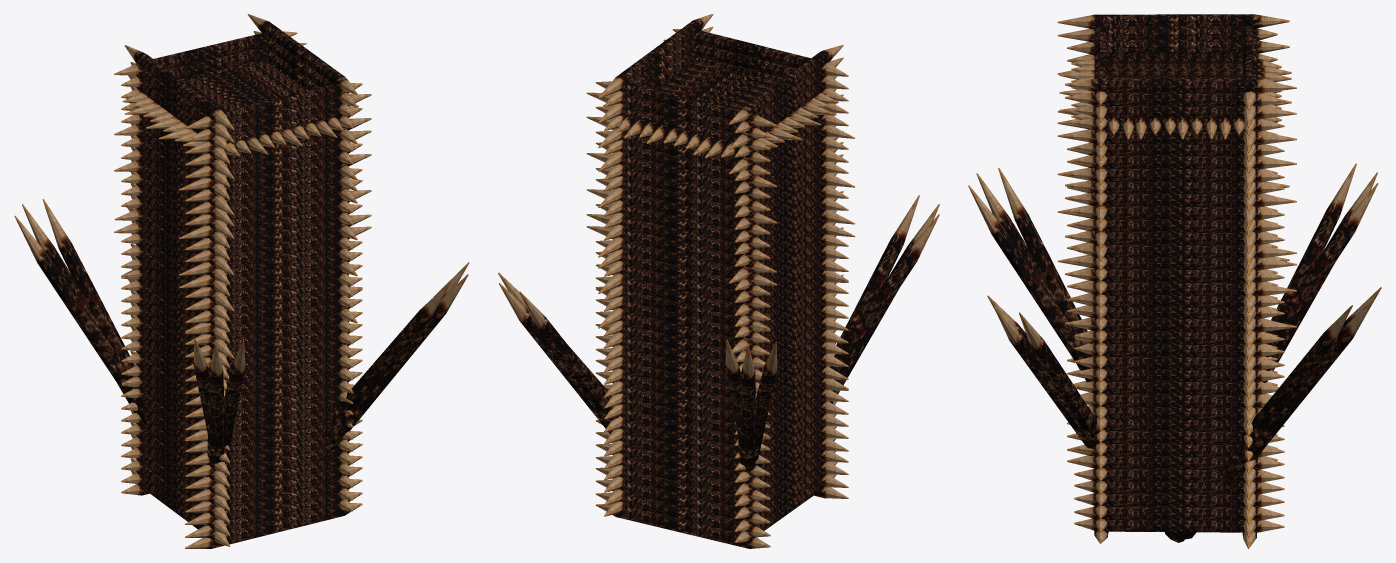
Rendered from OrcTower.obj.
3 renders of one model, left to right at view 1: azimuth 30°, elevation 25°; view 2: azimuth 150°, elevation 25°; view 3: azimuth 270°, elevation 25°, orthographic. The views are drawn at different scales.
Visible parts, largest first — view 1: Plane; view 2: Plane; view 3: Plane.
Boxes of the visible parts, x1=… form: Plane: x1=14, y1=14, x2=469, y2=548; Plane: x1=498, y1=14, x2=939, y2=548; Plane: x1=968, y1=14, x2=1381, y2=548.
Size of the model in its own units: 0.4903 by 0.7159 by 0.5721.
1 material, 1 textured.
